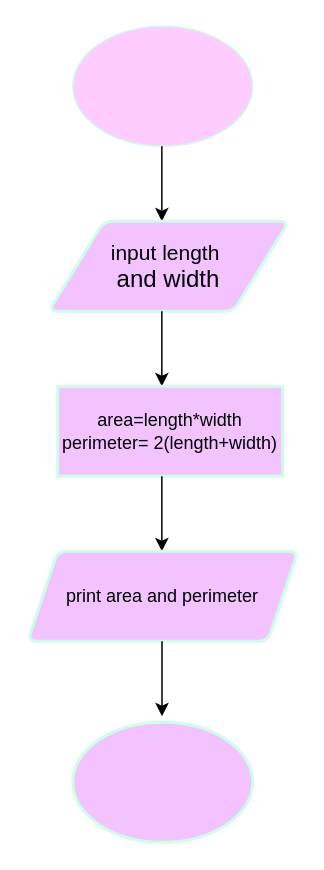
Some shapes in this 324 by 870 pixel diagram are drawn without their labels. Each missing label, with the box of its shape:
start: (71, 25, 253, 146)
stop: (70, 720, 254, 843)
